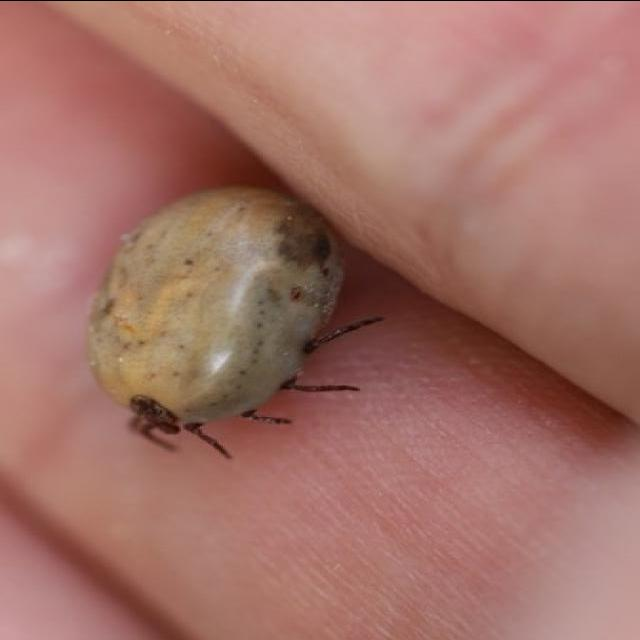Dermacentor Reticulatus-F-Fed: (86, 184, 387, 460)
